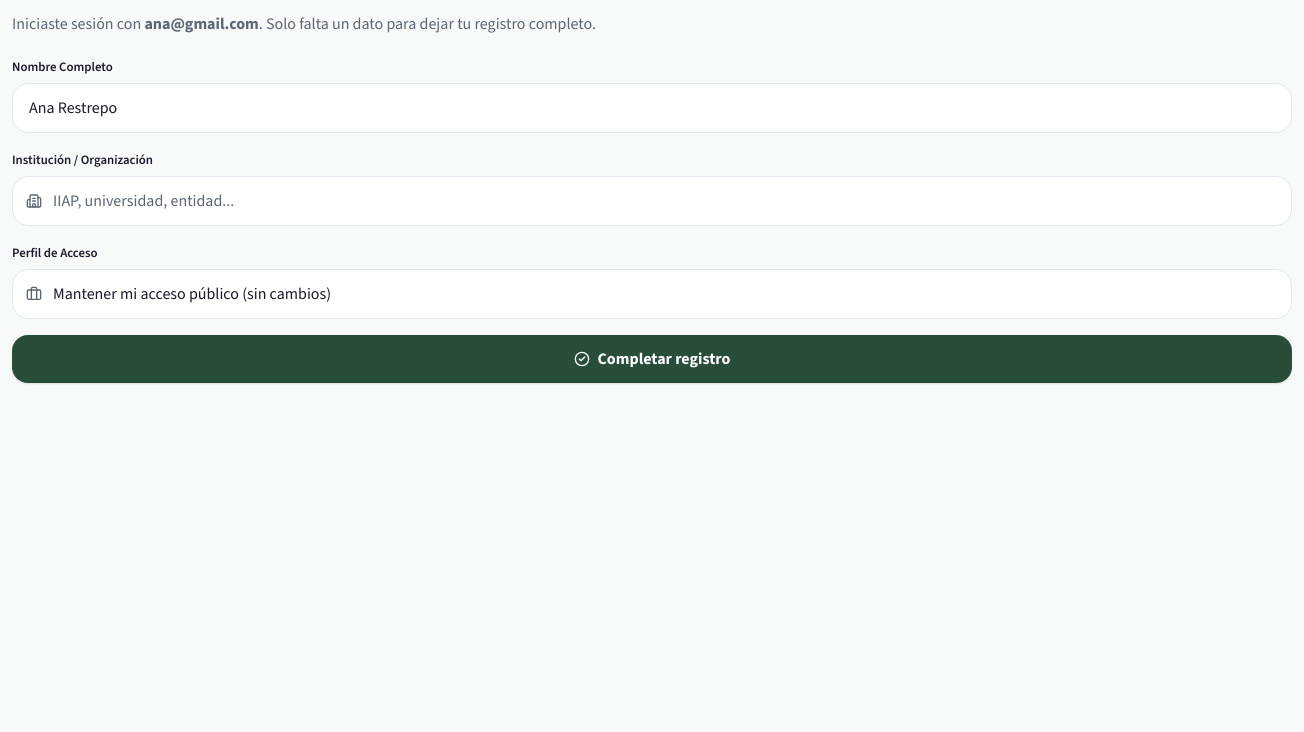
CompletarPerfilForm — solicitud de perfil de acceso › con un perfil elevado, envía perfilSolicitado y motivo, y NO cierra el panel de inmediato — muestra la confirmación
In the field labelled "Institución / Organización": (652,201) [12,176,1292,226], type "IIAP"
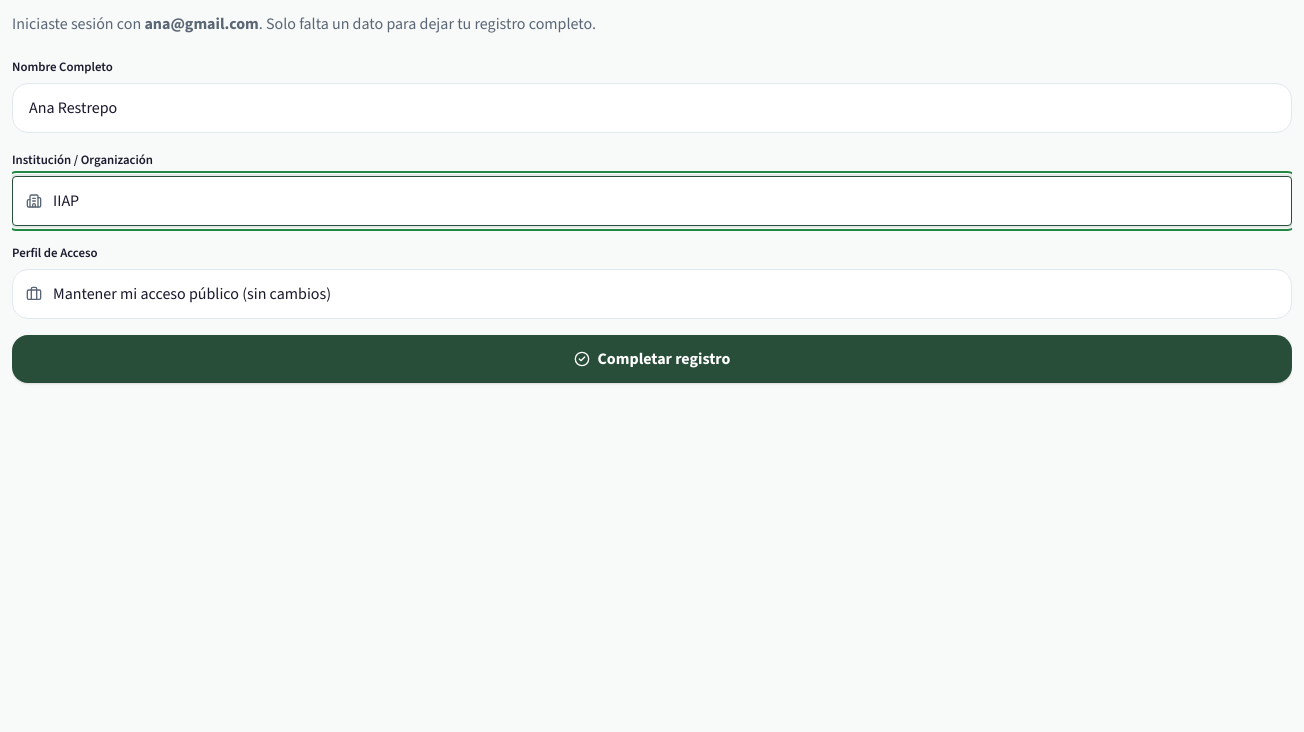
Select "Investigador / Científico" in the dropdown labelled "Perfil de Acceso": (652,294) [12,269,1292,319]
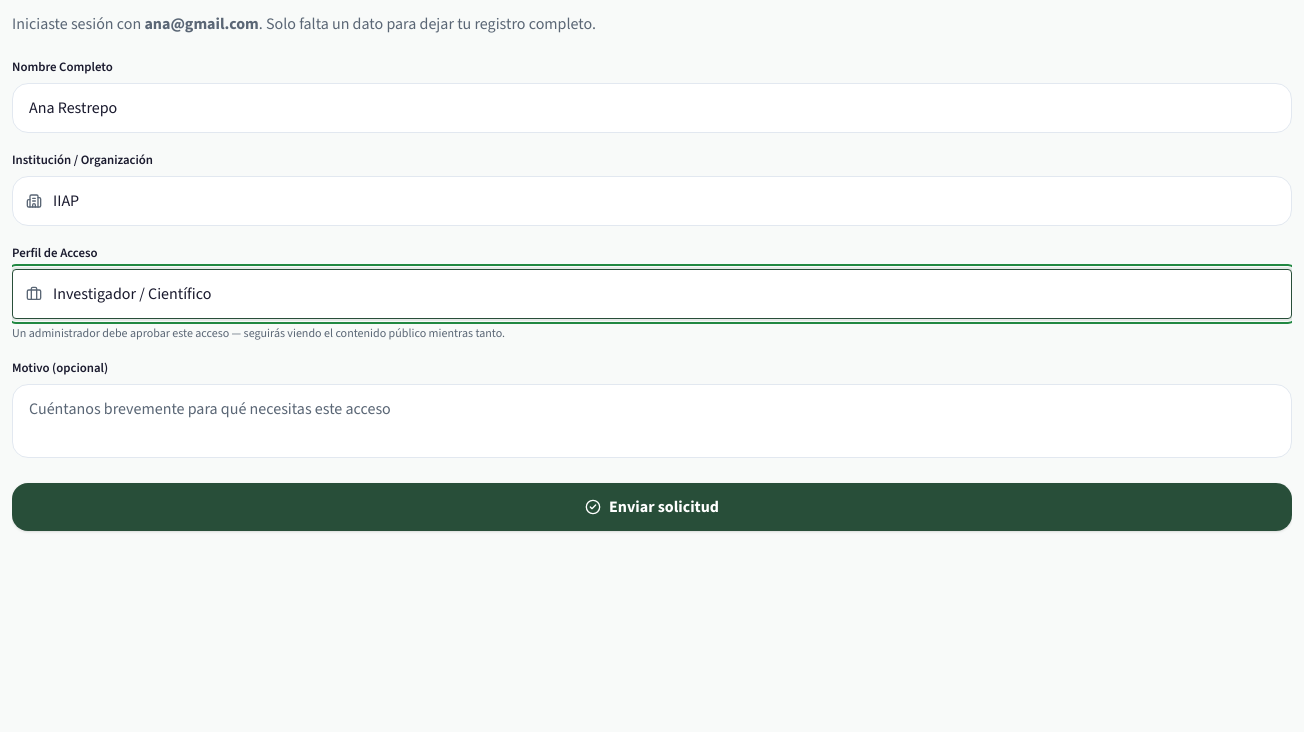
In the text box labelled "Motivo (opcional)": (652,421) [12,384,1292,458], type "Investigación de biodiversidad"
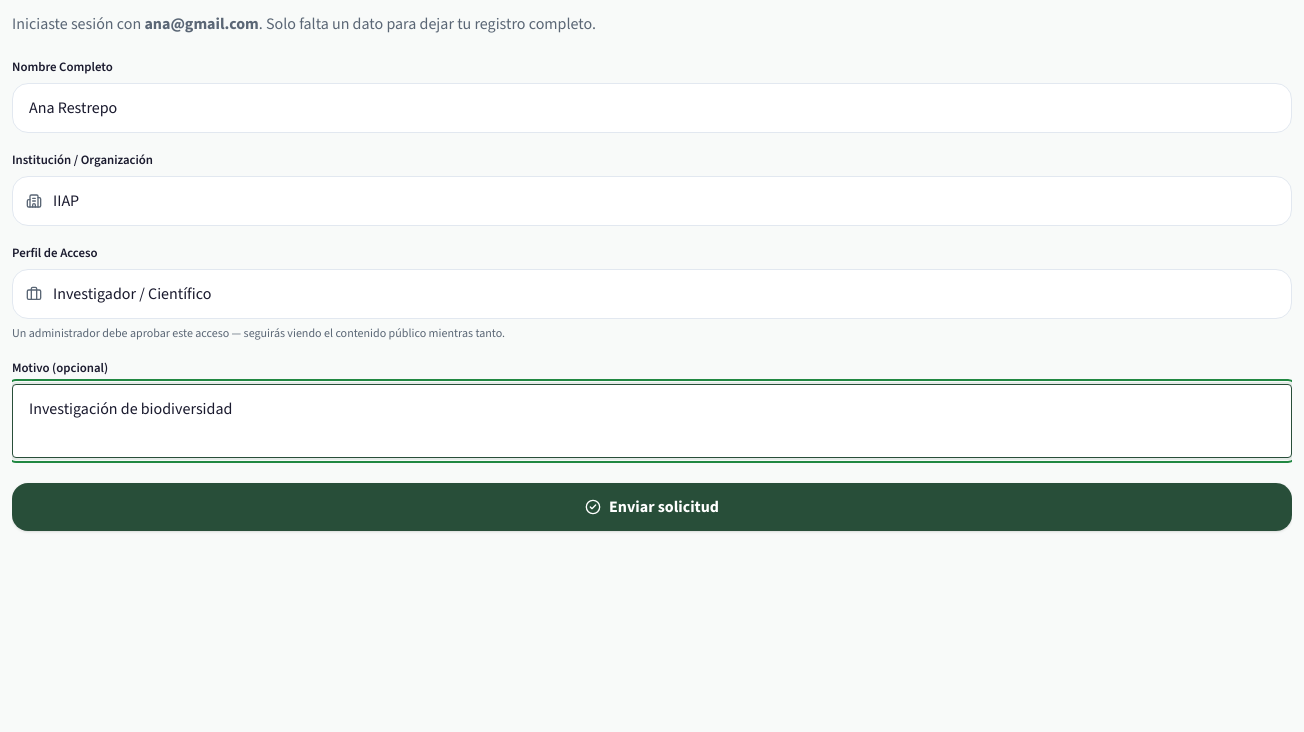
Click the button "Enviar solicitud": (652,507) [12,483,1292,531]
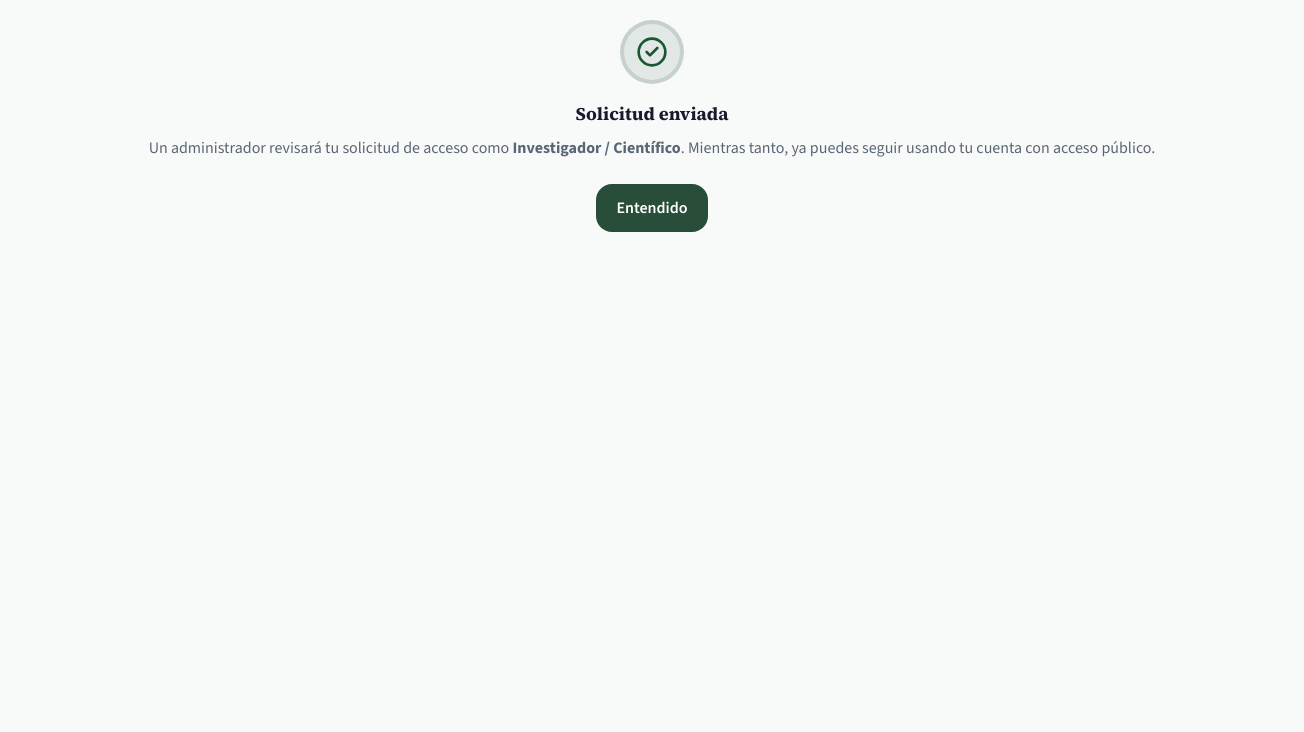
Check: the heading "Solicitud enviada" is shown, box [576,101,728,126]
